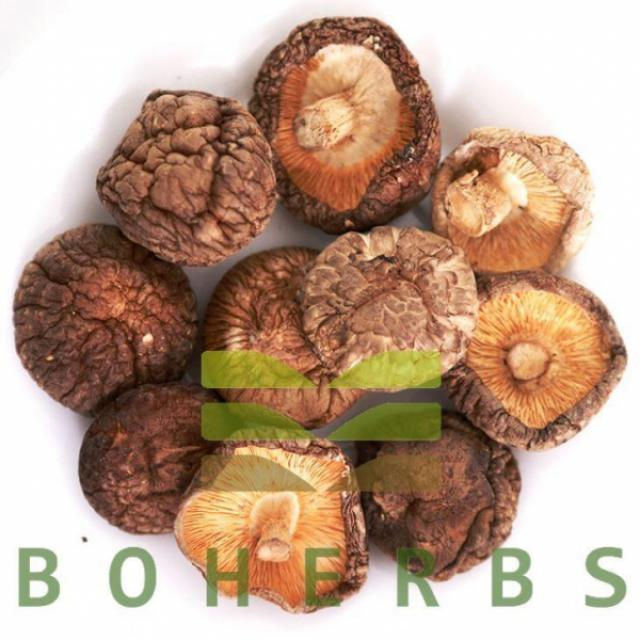Lentinus edodes: (251, 16, 443, 228), (16, 221, 197, 419), (170, 431, 366, 613), (449, 274, 627, 451), (211, 245, 379, 428), (99, 89, 276, 262), (307, 223, 476, 389), (358, 417, 522, 574), (433, 127, 591, 284), (79, 376, 220, 534)
